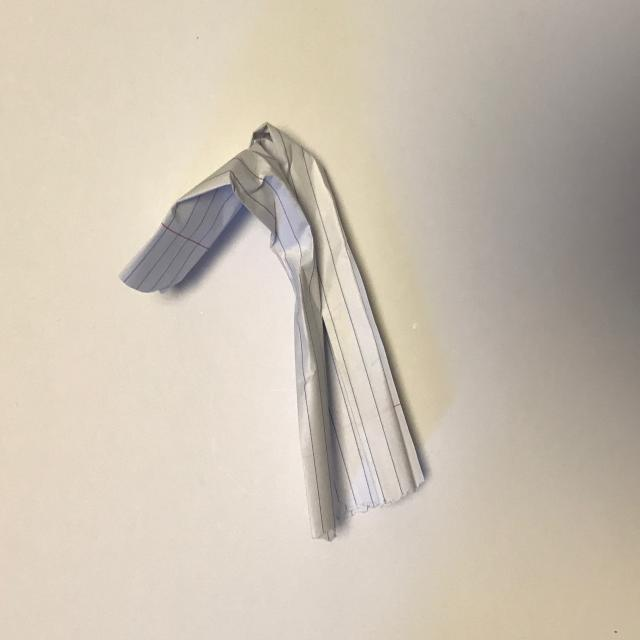paper: (111, 111, 435, 556)
